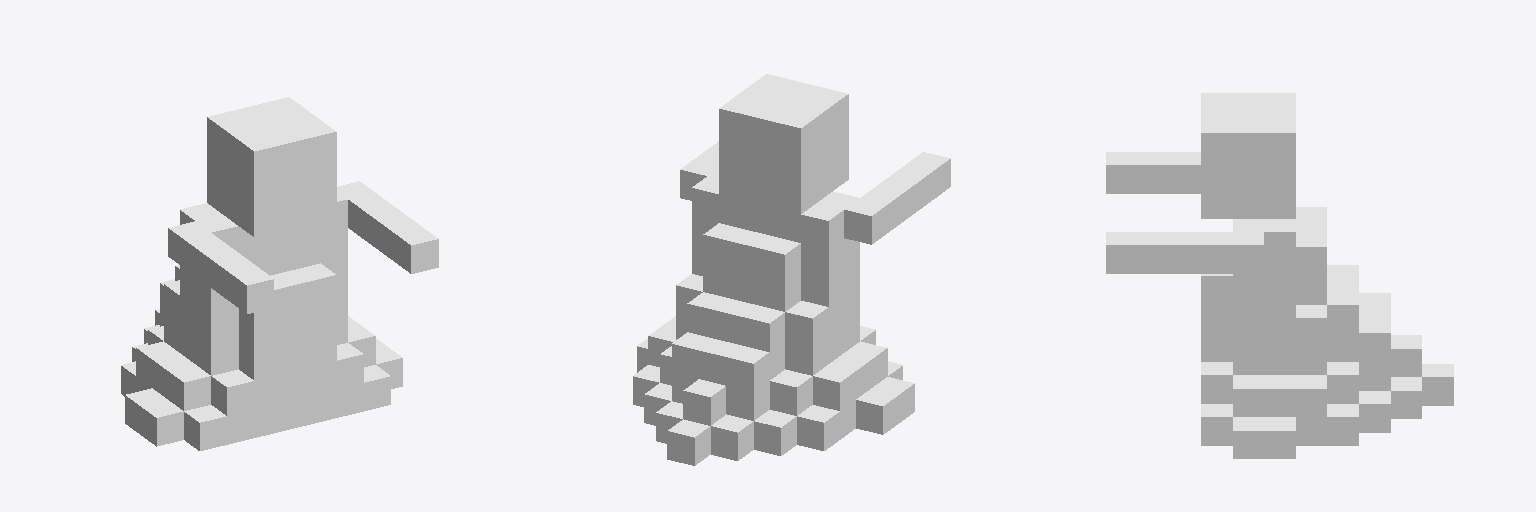
File: walk_2.obj
The picture shows the model from 3 angles: view 1: azimuth 30°, elevation 25°; view 2: azimuth 150°, elevation 25°; view 3: azimuth 270°, elevation 25°; orthographic projection.
Bounding box in the file's own units: 9 × 10 × 11.